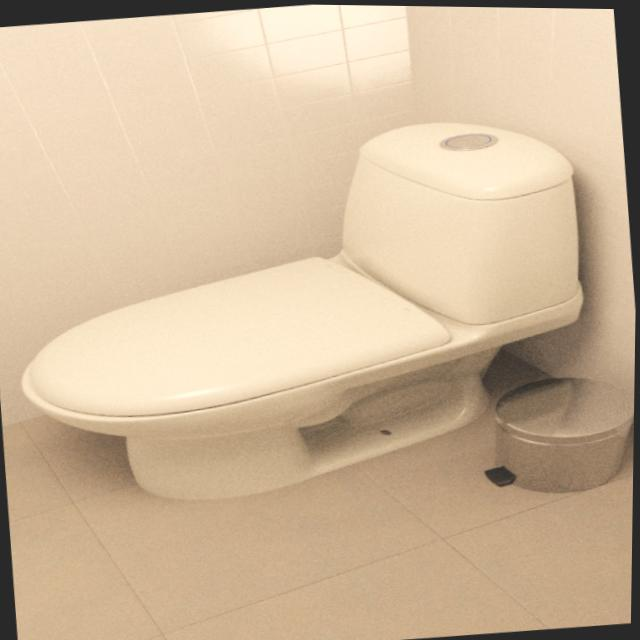toilet: (0, 102, 604, 519)
